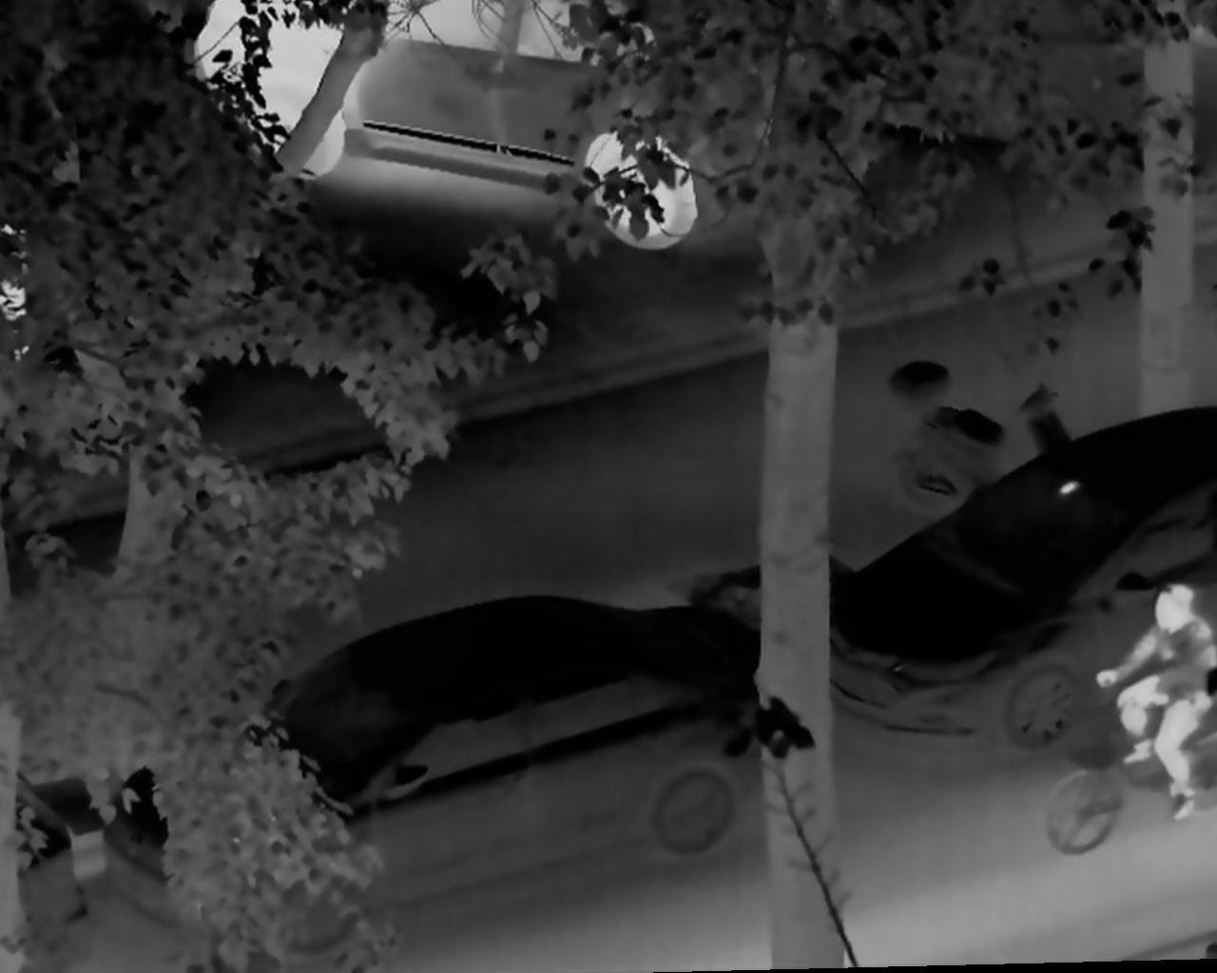person: (1098, 582, 1214, 830)
